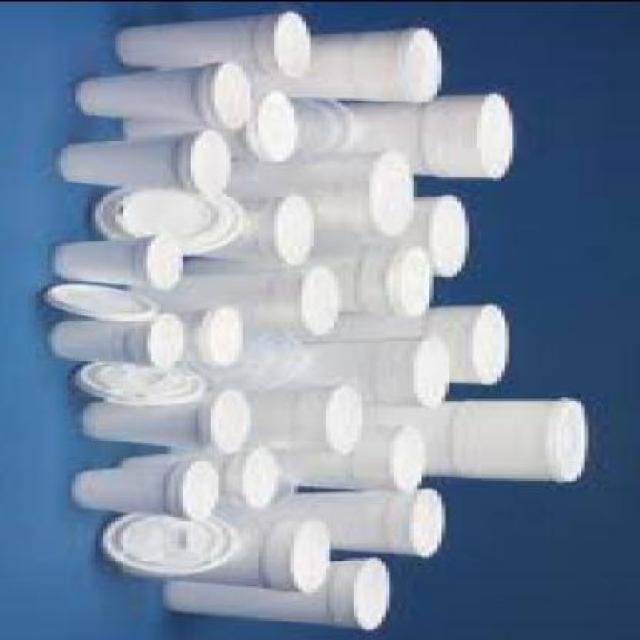PAPER: (370, 393, 592, 479), (167, 554, 398, 626), (230, 151, 418, 237), (338, 88, 520, 175), (338, 302, 517, 382), (155, 513, 334, 587), (267, 27, 445, 98), (120, 8, 314, 72), (123, 94, 302, 161), (79, 57, 255, 125), (282, 334, 448, 401), (172, 265, 338, 330), (79, 387, 255, 448), (64, 126, 235, 188), (123, 442, 286, 506), (278, 425, 429, 489), (302, 488, 453, 552), (72, 454, 222, 514), (183, 194, 319, 258), (318, 241, 433, 310), (250, 386, 370, 448), (55, 232, 188, 283), (55, 314, 188, 360), (394, 196, 469, 273), (163, 308, 243, 361)
